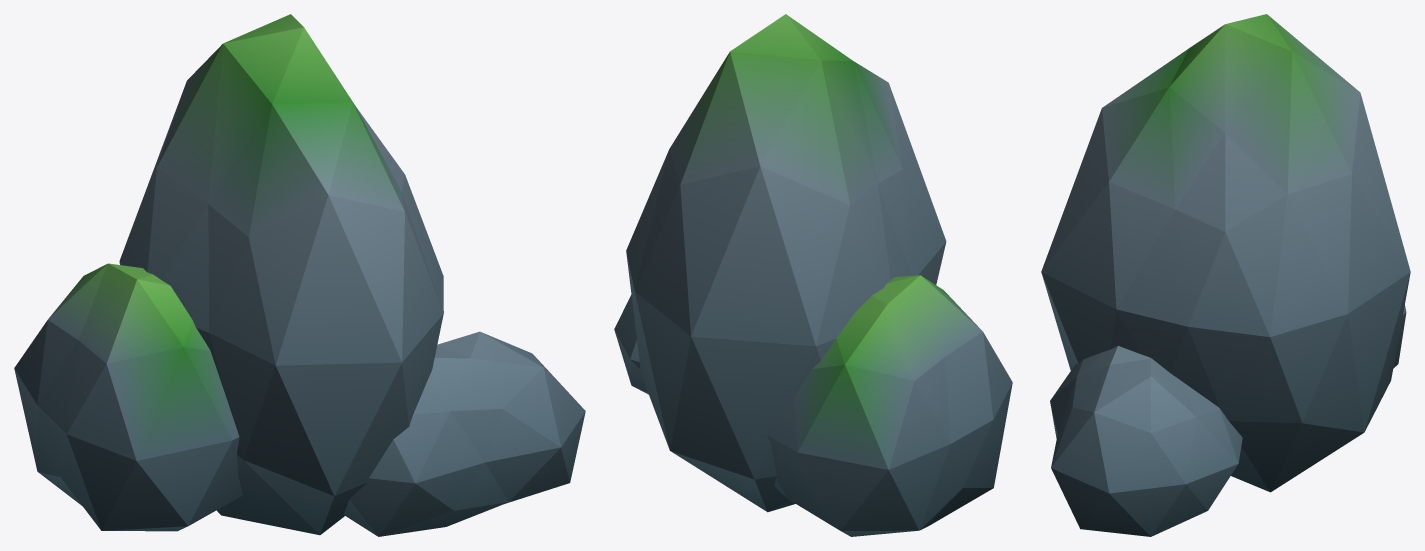
Rendered from rock_b.glb.
3 views of the same model, side by side, from view 1: azimuth 30°, elevation 25°; view 2: azimuth 150°, elevation 25°; view 3: azimuth 270°, elevation 25° (orthographic). The views are drawn at different scales.
Parts seen in each view (by area): view 1: RockB; view 2: RockB; view 3: RockB.
Boxes of the visible parts, x1,y1,x2,y2 form: RockB: (14,14,585,536); RockB: (614,14,1012,536); RockB: (1041,14,1410,536).
Size of the model in its own units: 1.56 by 1.58 by 1.19.
